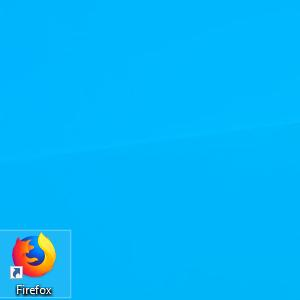firefox: (9, 232, 57, 280)
